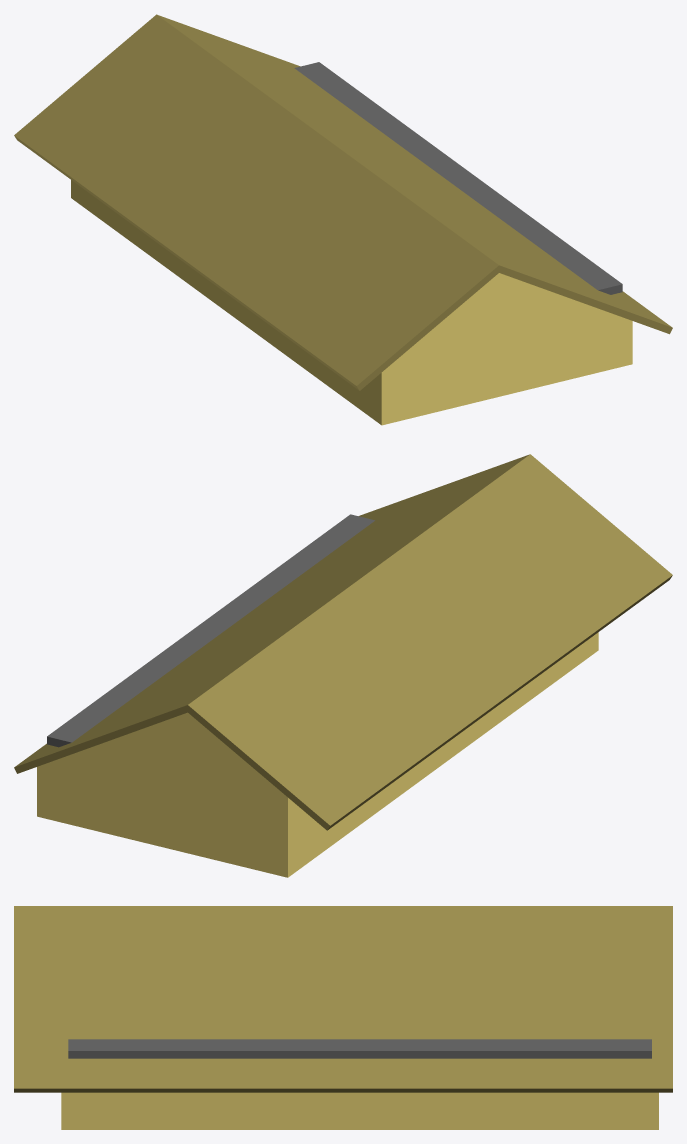
File: result.glb
3 renders of one model, top to bottom at view 1: azimuth 30°, elevation 25°; view 2: azimuth 150°, elevation 25°; view 3: azimuth 270°, elevation 25°, orthographic. The views are drawn at different scales.
Visible parts, largest first — view 1: 3b40f82d-361a-486e-a35e-79403dd8a89a__undefined (×2), 037fd796-54f0-4ef5-b64a-949336e71a58__undefined, add15f7d-93f3-49a1-b547-fdaff319eac8__Box; view 2: 3b40f82d-361a-486e-a35e-79403dd8a89a__undefined (×2), 037fd796-54f0-4ef5-b64a-949336e71a58__undefined, add15f7d-93f3-49a1-b547-fdaff319eac8__Box; view 3: 3b40f82d-361a-486e-a35e-79403dd8a89a__undefined, 037fd796-54f0-4ef5-b64a-949336e71a58__undefined, add15f7d-93f3-49a1-b547-fdaff319eac8__Box.
Part boxes in pixels (left/top/right/bottom): 3b40f82d-361a-486e-a35e-79403dd8a89a__undefined (×2): left=14, top=14, right=672, bottom=390; 037fd796-54f0-4ef5-b64a-949336e71a58__undefined: left=71, top=180, right=632, bottom=425; add15f7d-93f3-49a1-b547-fdaff319eac8__Box: left=294, top=62, right=622, bottom=294; 3b40f82d-361a-486e-a35e-79403dd8a89a__undefined (×2): left=14, top=454, right=672, bottom=830; 037fd796-54f0-4ef5-b64a-949336e71a58__undefined: left=37, top=632, right=598, bottom=877; add15f7d-93f3-49a1-b547-fdaff319eac8__Box: left=47, top=514, right=374, bottom=747; 3b40f82d-361a-486e-a35e-79403dd8a89a__undefined: left=14, top=906, right=672, bottom=1092; 037fd796-54f0-4ef5-b64a-949336e71a58__undefined: left=61, top=1092, right=658, bottom=1129; add15f7d-93f3-49a1-b547-fdaff319eac8__Box: left=68, top=1039, right=651, bottom=1058.
Bounding box in the file's own units: 1258 × 591 × 2360.
